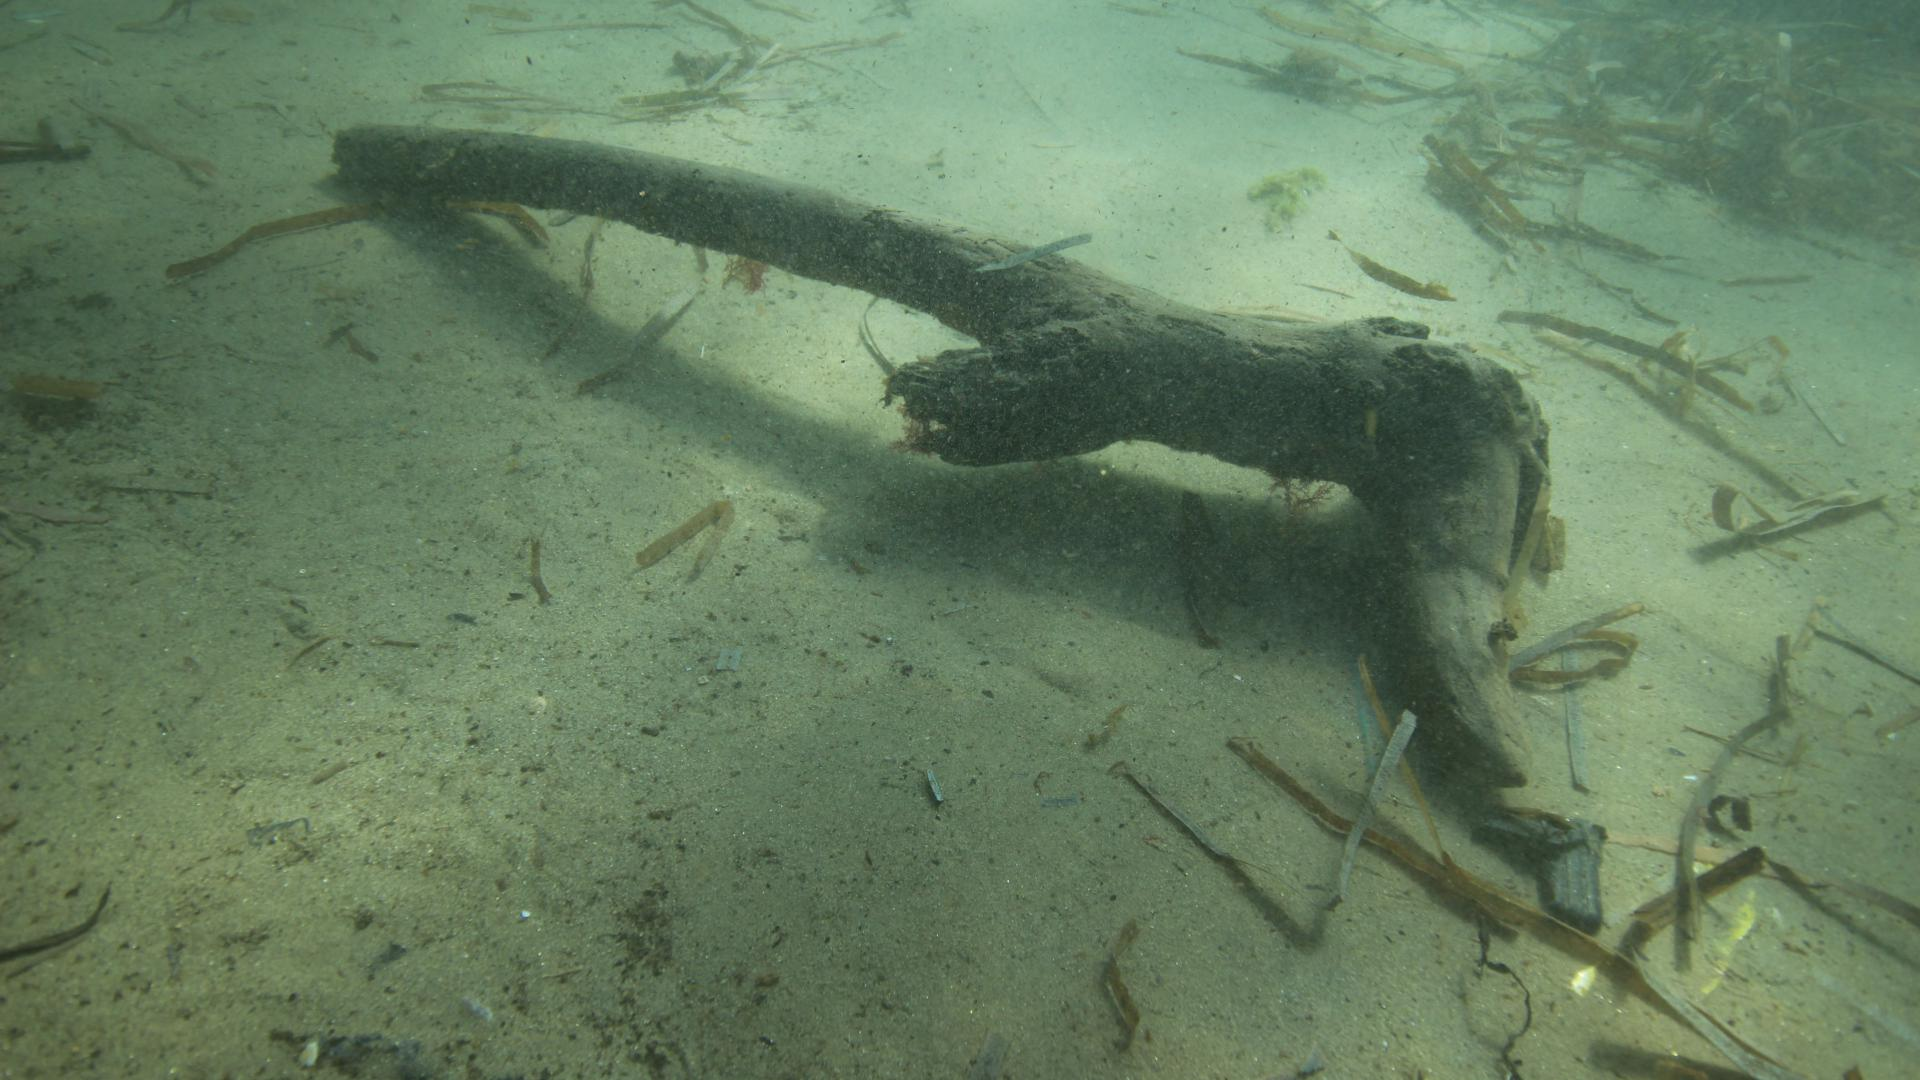wood: (330, 117, 1539, 786)
